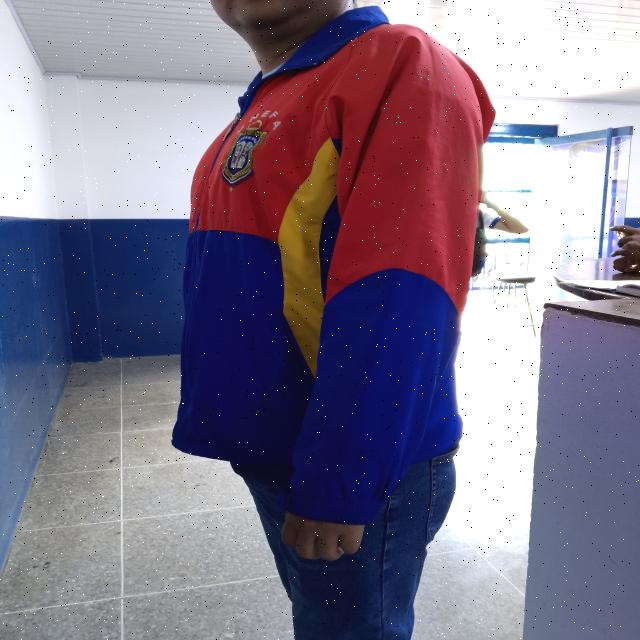chaqueta_unefa: (169, 4, 497, 525)
